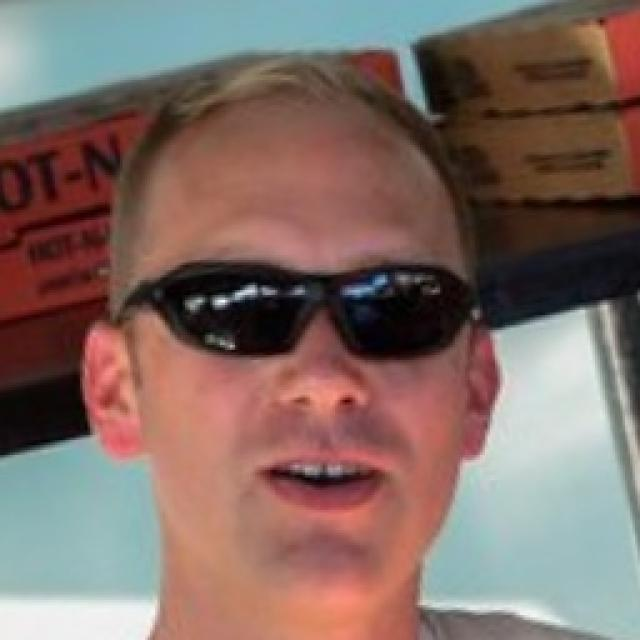glasses: (106, 256, 496, 384)
